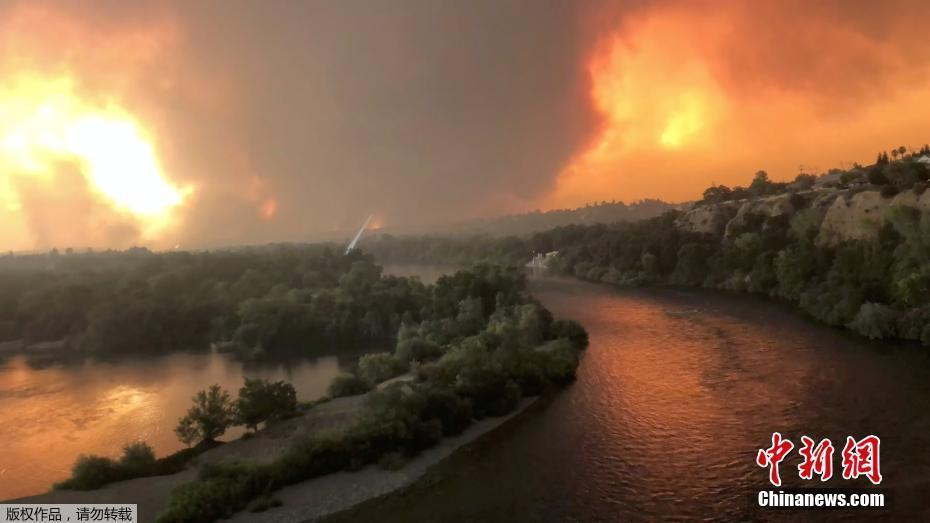fire: (0, 61, 210, 231), (598, 27, 836, 177)
